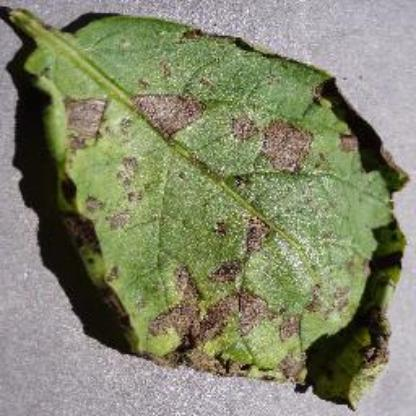Early-Blight: (7, 5, 399, 408)
